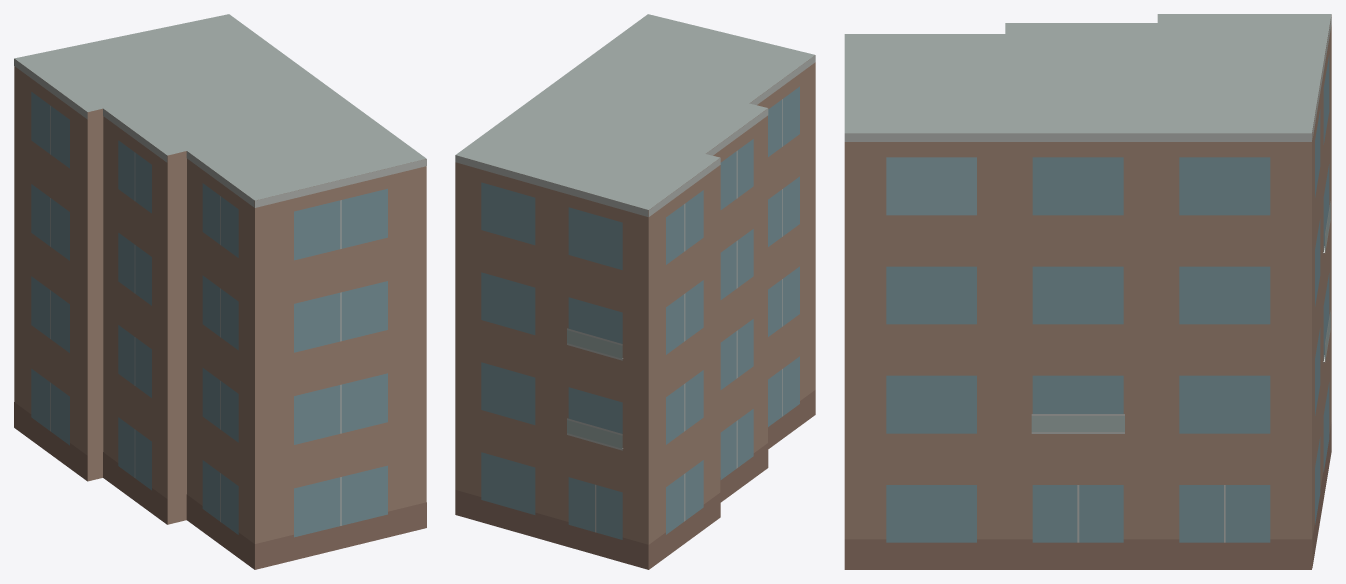
The model's file is survey-upis-32487852.glb.
3 views of the same model, side by side, from view 1: azimuth 30°, elevation 25°; view 2: azimuth 150°, elevation 25°; view 3: azimuth 270°, elevation 25° (orthographic). The views are drawn at different scales.
Parts seen in each view (by area): view 1: survey-upis-32487852.tmp; view 2: survey-upis-32487852.tmp; view 3: survey-upis-32487852.tmp.
Boxes of the visible parts, bbox=[...] form: survey-upis-32487852.tmp: bbox=[14, 14, 426, 569]; survey-upis-32487852.tmp: bbox=[455, 14, 815, 569]; survey-upis-32487852.tmp: bbox=[844, 14, 1331, 569].
Size of the model in its own units: 7.2 by 12.2 by 12.35.
